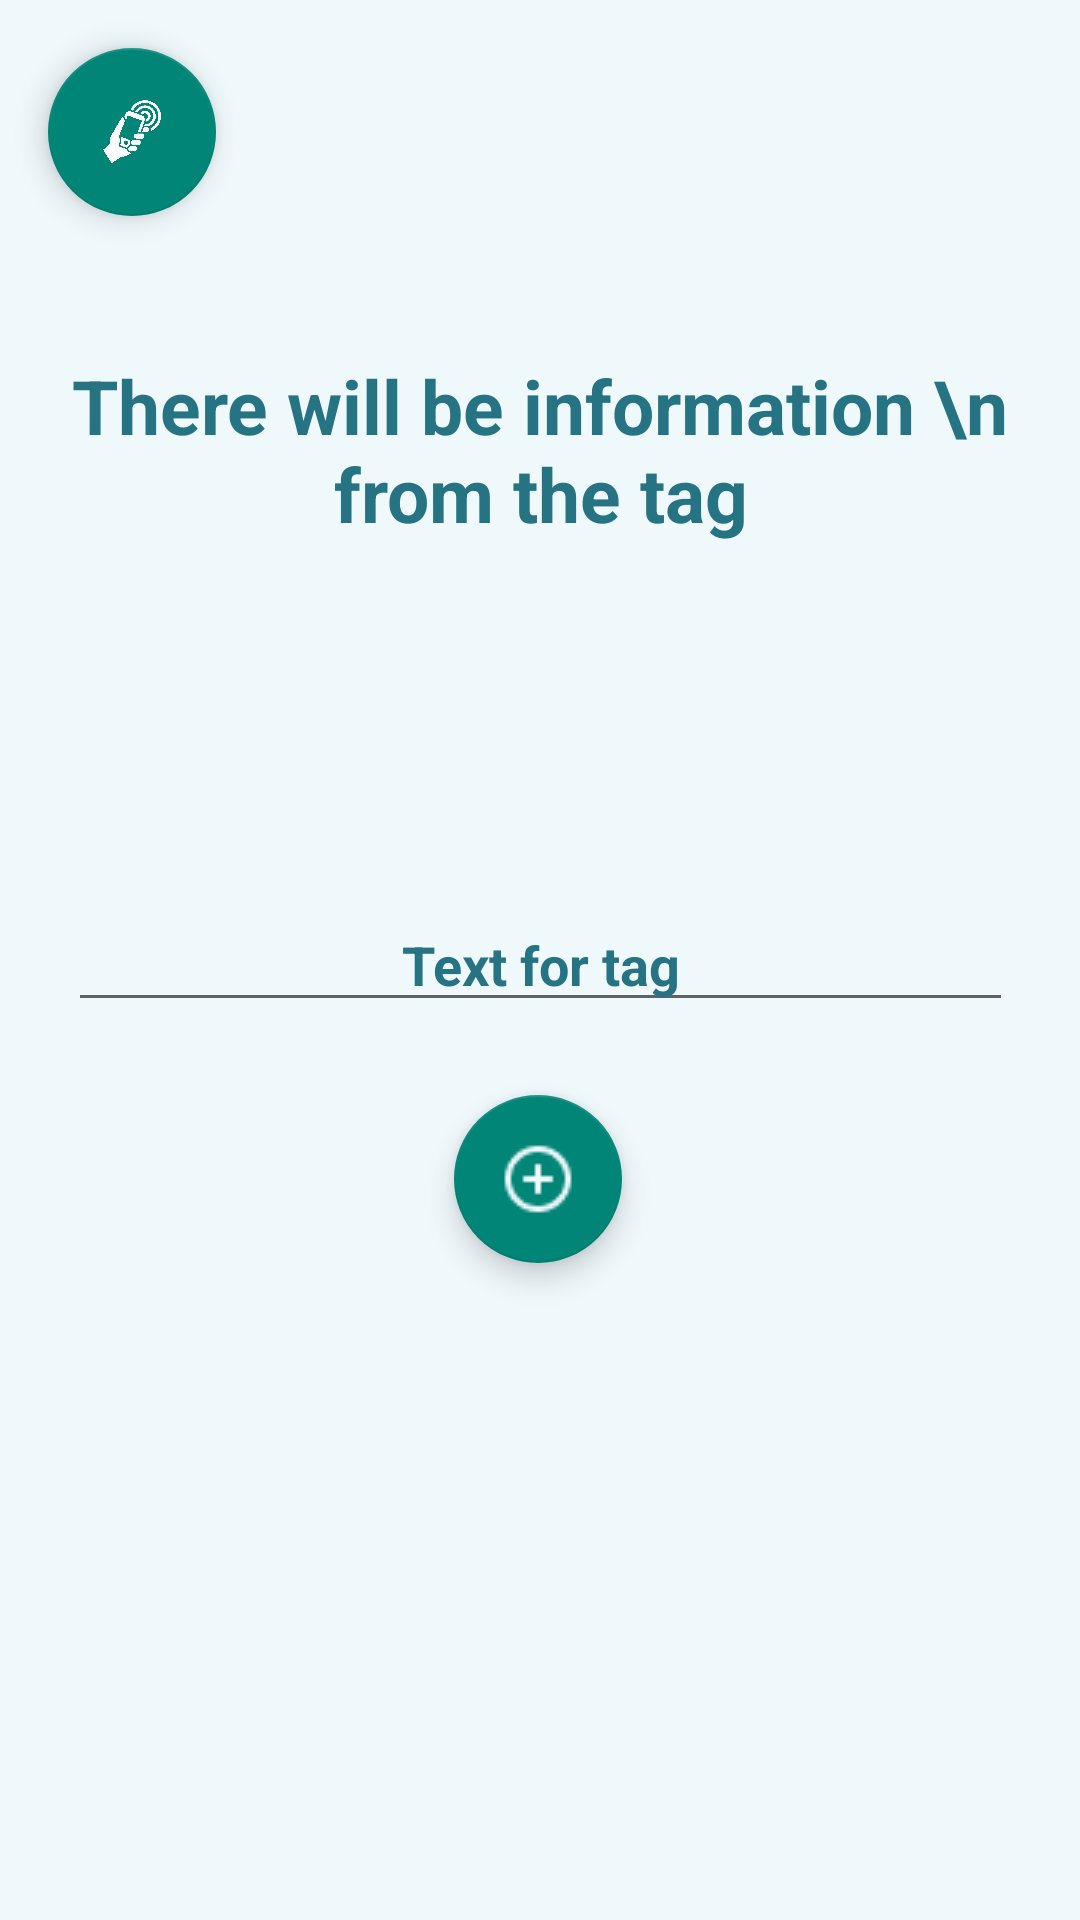

Where icons sit on this 1080 x 1920 app screen, as box(x1, y1, x2, y2):
circle: box(454, 1095, 622, 1263)
